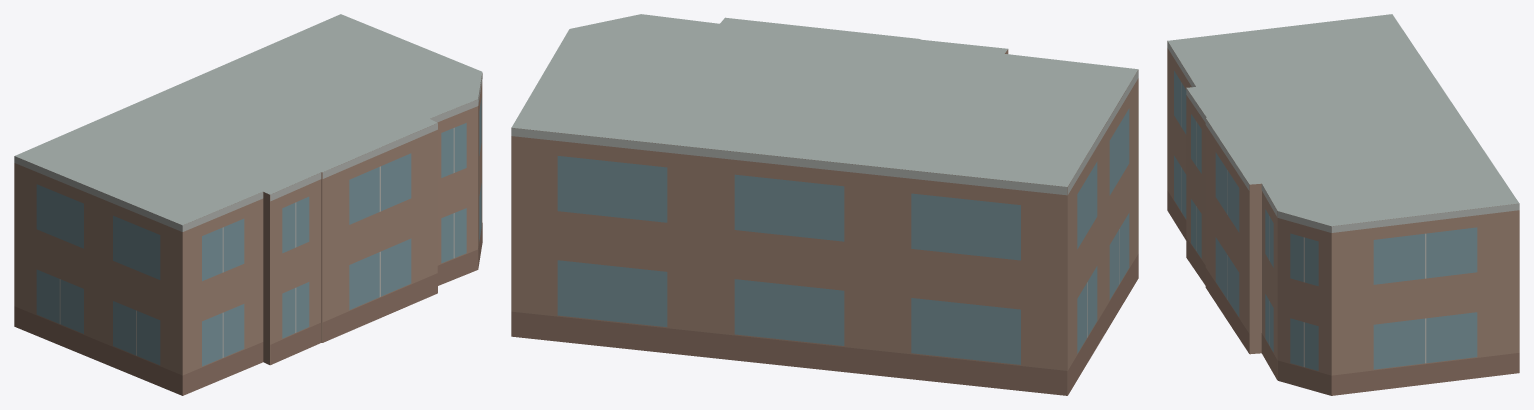
File: survey-upis-32664365.glb
3 renders of one model, left to right at view 1: azimuth 30°, elevation 25°; view 2: azimuth 150°, elevation 25°; view 3: azimuth 270°, elevation 25°, orthographic. The views are drawn at different scales.
Visible parts, largest first — view 1: survey-upis-32664365.tmp; view 2: survey-upis-32664365.tmp; view 3: survey-upis-32664365.tmp.
Part boxes in pixels (x1=…): survey-upis-32664365.tmp: x1=14, y1=14, x2=482, y2=395; survey-upis-32664365.tmp: x1=511, y1=14, x2=1138, y2=395; survey-upis-32664365.tmp: x1=1167, y1=14, x2=1519, y2=395.
Bounding box in the file's own units: 16.38 × 6.1 × 11.49.
